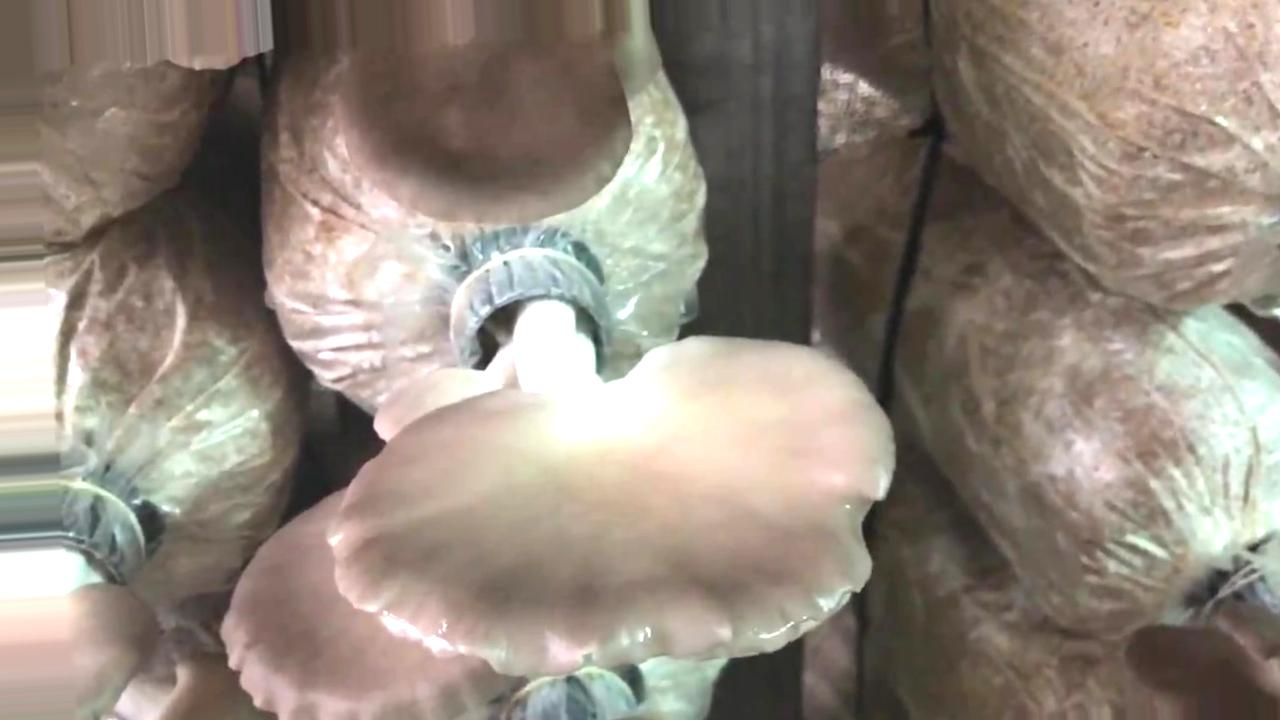nam: (327, 234, 896, 668), (338, 7, 635, 232), (223, 491, 513, 720), (1, 481, 153, 717)
